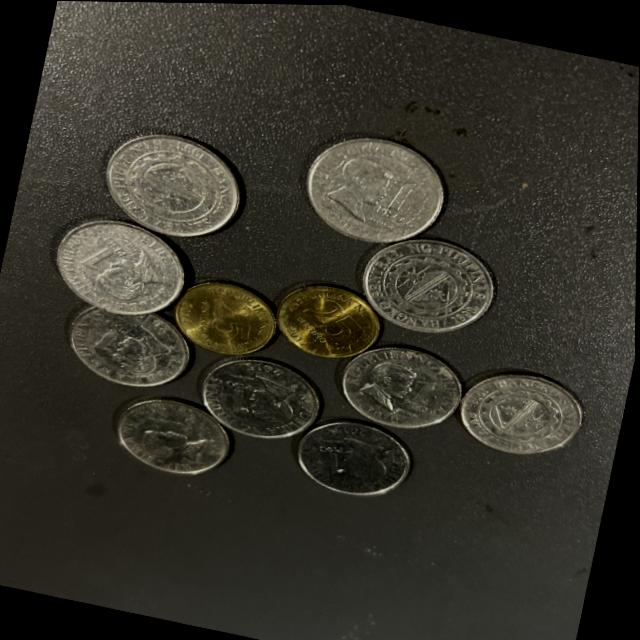1_Old_Back: (96, 107, 238, 239), (454, 356, 580, 457), (372, 233, 489, 326)
1_Old_Front: (109, 385, 233, 481), (210, 345, 322, 439), (347, 336, 459, 430), (293, 415, 411, 502), (77, 305, 187, 390), (68, 229, 171, 310)
25Cent_Old_Front: (172, 266, 281, 360), (279, 271, 380, 356)
